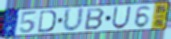5: (19, 10, 39, 35)
6: (133, 5, 152, 29)
B: (83, 8, 106, 31)
D: (37, 9, 57, 34)
U: (61, 7, 85, 34), (111, 5, 133, 30)
